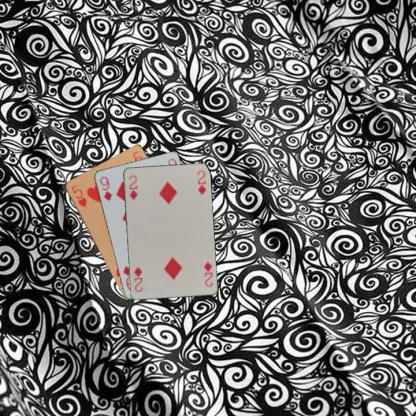2d: (126, 172, 139, 201), (201, 259, 214, 288)
5h: (69, 182, 88, 208)
9d: (97, 174, 113, 202)
